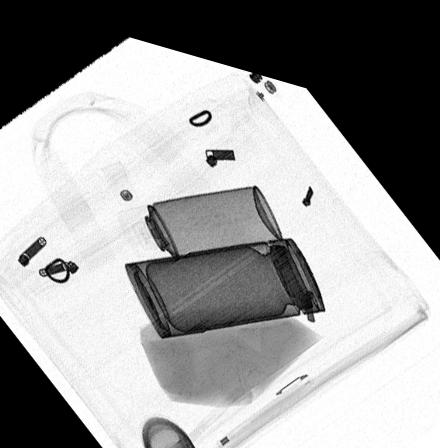Sprayer: (117, 169, 283, 256)
